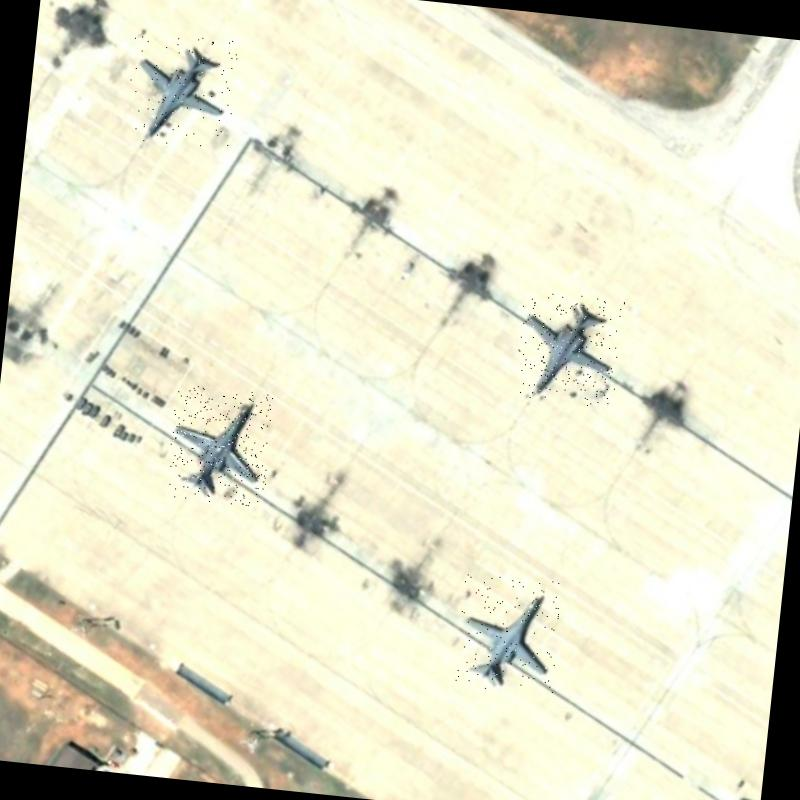A10: (454, 568, 564, 696), (163, 384, 274, 508), (124, 31, 238, 150), (513, 290, 626, 408)
